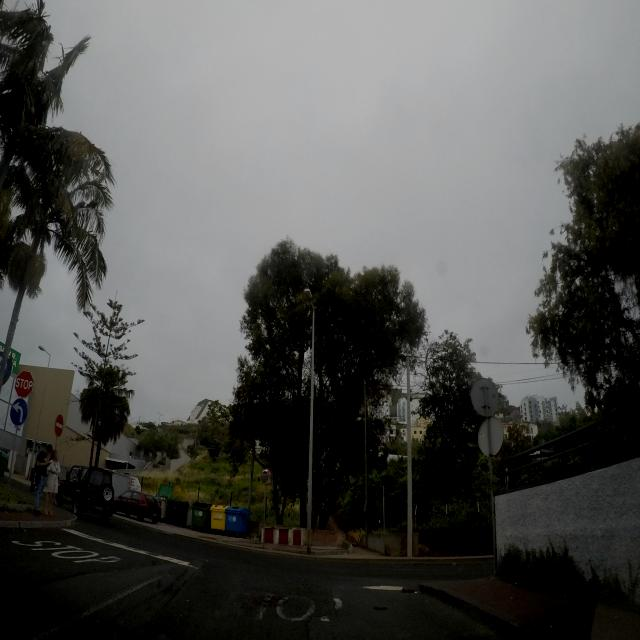car: (55, 464, 116, 524), (115, 490, 162, 523)
